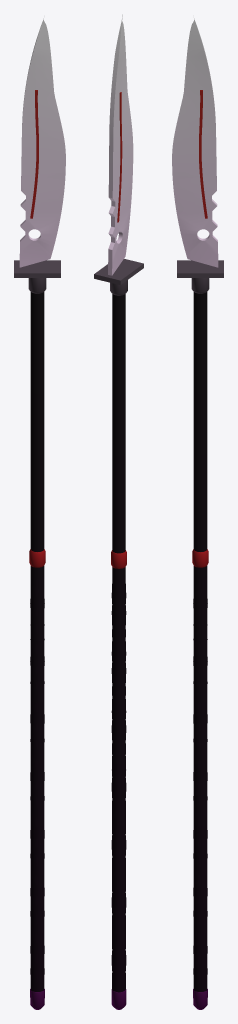
Rendered from naginata.glb.
3 views of the same model, side by side, from view 1: azimuth 90°, elevation 25°; view 2: azimuth 150°, elevation 25°; view 3: azimuth 270°, elevation 25° (orthographic).
Parts seen in each view (by area): view 1: Naginata; view 2: Naginata; view 3: Naginata.
Boxes of the visible parts, x1=… form: Naginata: x1=14, y1=18, x2=65, y2=1009; Naginata: x1=94, y1=14, x2=143, y2=1009; Naginata: x1=172, y1=18, x2=223, y2=1009.
Size of the model in its own units: 0.072 by 2.58 by 0.1217.
